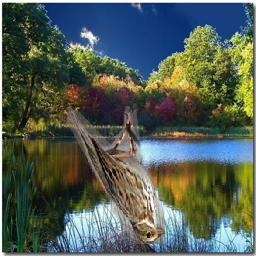Sparrow: (67, 106, 165, 244)
